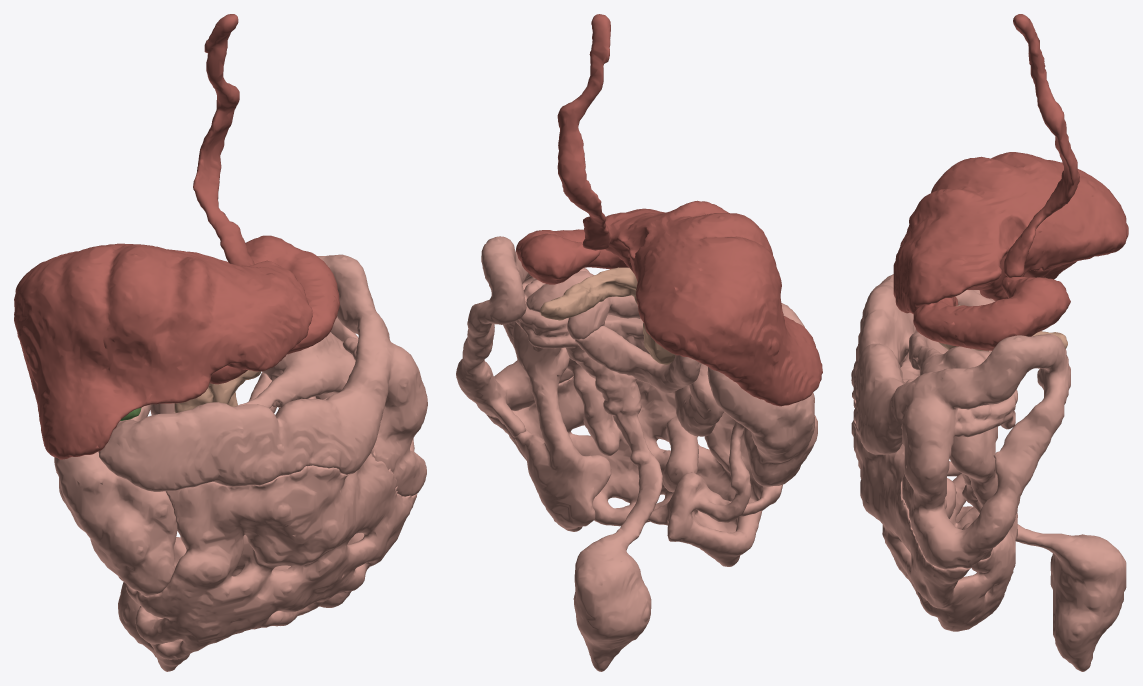
The model's file is tsd_s0196_older_adult_female.digestive.LOD1.glb.
3 views of the same model, side by side, from view 1: azimuth 30°, elevation 25°; view 2: azimuth 150°, elevation 25°; view 3: azimuth 270°, elevation 25° (orthographic). The views are drawn at different scales.
Parts seen in each view (by area): view 1: TSD_S0196.OLDER_ADULT.FEMALE.DIGESTIVE.COLON, TSD_S0196.OLDER_ADULT.FEMALE.DIGESTIVE.LIVER, TSD_S0196.OLDER_ADULT.FEMALE.DIGESTIVE.SMALL_BOWEL_JEJUNUM_A, TSD_S0196.OLDER_ADULT.FEMALE.DIGESTIVE.ESOPHAGUS, TSD_S0196.OLDER_ADULT.FEMALE.DIGESTIVE.STOMACH, TSD_S0196.OLDER_ADULT.FEMALE.DIGESTIVE.PANCREAS; view 2: TSD_S0196.OLDER_ADULT.FEMALE.DIGESTIVE.SMALL_BOWEL_JEJUNUM_A, TSD_S0196.OLDER_ADULT.FEMALE.DIGESTIVE.COLON, TSD_S0196.OLDER_ADULT.FEMALE.DIGESTIVE.LIVER, TSD_S0196.OLDER_ADULT.FEMALE.DIGESTIVE.ESOPHAGUS, TSD_S0196.OLDER_ADULT.FEMALE.DIGESTIVE.STOMACH, TSD_S0196.OLDER_ADULT.FEMALE.DIGESTIVE.DUODENUM, TSD_S0196.OLDER_ADULT.FEMALE.DIGESTIVE.PANCREAS; view 3: TSD_S0196.OLDER_ADULT.FEMALE.DIGESTIVE.COLON, TSD_S0196.OLDER_ADULT.FEMALE.DIGESTIVE.LIVER, TSD_S0196.OLDER_ADULT.FEMALE.DIGESTIVE.SMALL_BOWEL_JEJUNUM_A, TSD_S0196.OLDER_ADULT.FEMALE.DIGESTIVE.STOMACH, TSD_S0196.OLDER_ADULT.FEMALE.DIGESTIVE.ESOPHAGUS, TSD_S0196.OLDER_ADULT.FEMALE.DIGESTIVE.DUODENUM.
Part boxes in pixels (box(x1,y1,x2,y2)): TSD_S0196.OLDER_ADULT.FEMALE.DIGESTIVE.COLON: box(54, 254, 427, 671); TSD_S0196.OLDER_ADULT.FEMALE.DIGESTIVE.LIVER: box(14, 243, 312, 459); TSD_S0196.OLDER_ADULT.FEMALE.DIGESTIVE.SMALL_BOWEL_JEJUNUM_A: box(118, 332, 417, 659); TSD_S0196.OLDER_ADULT.FEMALE.DIGESTIVE.ESOPHAGUS: box(193, 14, 254, 266); TSD_S0196.OLDER_ADULT.FEMALE.DIGESTIVE.STOMACH: box(210, 235, 339, 384); TSD_S0196.OLDER_ADULT.FEMALE.DIGESTIVE.PANCREAS: box(174, 370, 261, 412); TSD_S0196.OLDER_ADULT.FEMALE.DIGESTIVE.SMALL_BOWEL_JEJUNUM_A: box(487, 271, 782, 566); TSD_S0196.OLDER_ADULT.FEMALE.DIGESTIVE.COLON: box(456, 236, 817, 671); TSD_S0196.OLDER_ADULT.FEMALE.DIGESTIVE.LIVER: box(605, 200, 822, 406); TSD_S0196.OLDER_ADULT.FEMALE.DIGESTIVE.ESOPHAGUS: box(557, 14, 610, 250); TSD_S0196.OLDER_ADULT.FEMALE.DIGESTIVE.STOMACH: box(516, 229, 628, 284); TSD_S0196.OLDER_ADULT.FEMALE.DIGESTIVE.DUODENUM: box(575, 325, 701, 393); TSD_S0196.OLDER_ADULT.FEMALE.DIGESTIVE.PANCREAS: box(540, 267, 675, 364); TSD_S0196.OLDER_ADULT.FEMALE.DIGESTIVE.COLON: box(851, 274, 1126, 671); TSD_S0196.OLDER_ADULT.FEMALE.DIGESTIVE.LIVER: box(893, 152, 1128, 313); TSD_S0196.OLDER_ADULT.FEMALE.DIGESTIVE.SMALL_BOWEL_JEJUNUM_A: box(851, 332, 1017, 631); TSD_S0196.OLDER_ADULT.FEMALE.DIGESTIVE.STOMACH: box(913, 277, 1070, 350); TSD_S0196.OLDER_ADULT.FEMALE.DIGESTIVE.ESOPHAGUS: box(1004, 14, 1079, 277); TSD_S0196.OLDER_ADULT.FEMALE.DIGESTIVE.DUODENUM: box(955, 290, 994, 351).
Bounding box in the file's own units: 0.2884 × 0.5014 × 0.1878.
